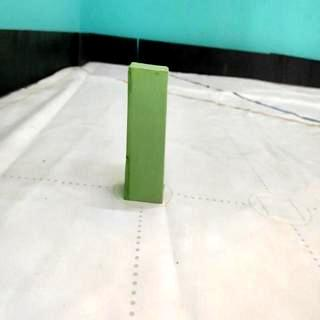greenbox: (122, 60, 170, 204)
